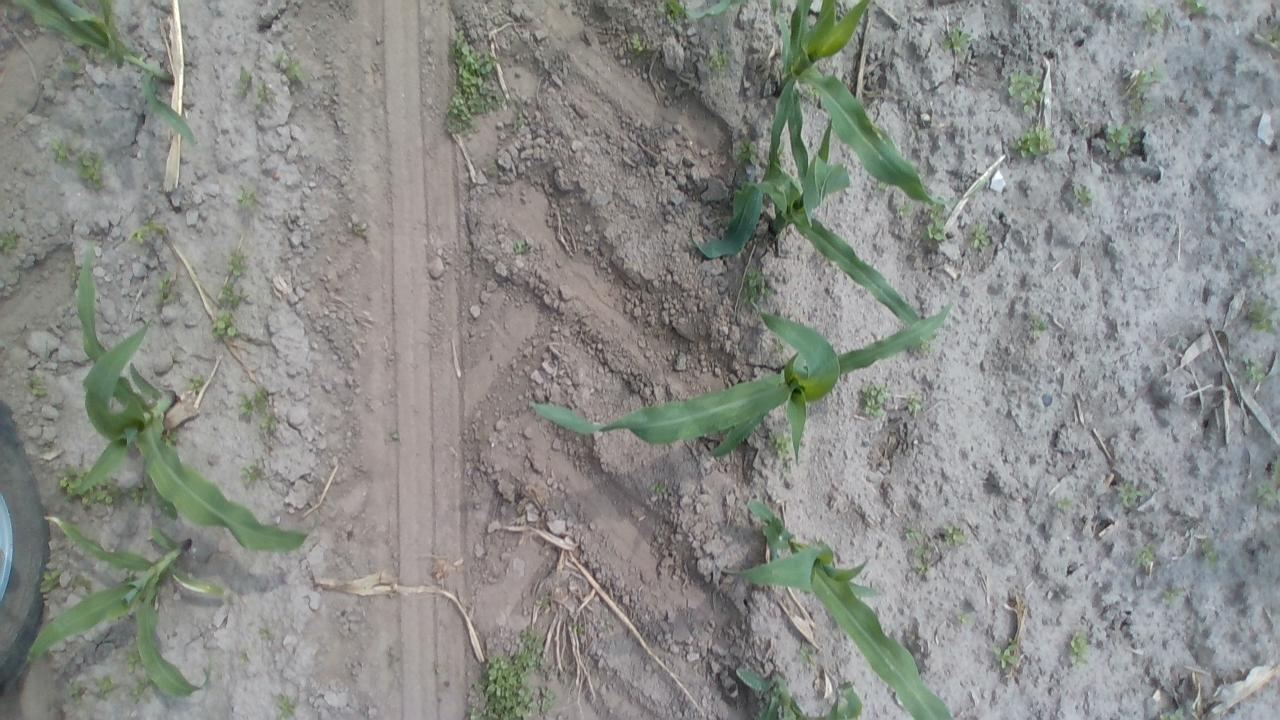Maize: (70, 232, 314, 552), (519, 295, 956, 457), (704, 0, 952, 230), (696, 108, 932, 334), (726, 498, 952, 718), (22, 516, 219, 699), (6, 0, 199, 148), (730, 663, 866, 719), (664, 0, 782, 19)
Weeds: (442, 32, 507, 141), (484, 627, 558, 720), (1006, 68, 1046, 112), (1011, 124, 1057, 159), (1252, 456, 1280, 511), (1126, 58, 1166, 93), (740, 265, 772, 307), (272, 50, 308, 87), (1106, 122, 1142, 156), (1066, 628, 1094, 670), (76, 148, 106, 187), (856, 383, 888, 418), (912, 542, 941, 578), (1247, 297, 1275, 334), (126, 220, 169, 244), (56, 465, 88, 497), (84, 482, 121, 508), (994, 639, 1024, 671), (238, 388, 272, 416), (130, 674, 161, 704), (942, 26, 973, 54), (1115, 479, 1142, 510), (736, 136, 760, 170), (126, 478, 152, 509), (1142, 6, 1170, 34), (661, 0, 691, 26), (213, 311, 239, 341), (922, 214, 946, 245), (274, 692, 301, 719), (941, 520, 968, 546), (769, 430, 794, 458), (217, 282, 246, 306), (704, 48, 734, 71), (1240, 358, 1266, 384), (232, 68, 255, 97), (52, 136, 74, 166), (1126, 96, 1156, 118), (236, 183, 262, 208), (92, 673, 118, 698), (224, 252, 248, 279), (1196, 537, 1220, 564), (1134, 544, 1158, 570), (970, 221, 991, 250), (253, 81, 277, 106), (24, 376, 48, 400), (794, 644, 816, 670), (1073, 186, 1096, 210), (1251, 255, 1275, 278), (1026, 312, 1048, 336), (120, 646, 142, 670), (1258, 26, 1278, 52), (40, 569, 60, 594), (158, 276, 176, 303), (0, 230, 22, 252), (67, 678, 87, 702), (348, 216, 369, 238), (1182, 0, 1208, 17), (242, 462, 262, 484), (512, 236, 532, 258), (186, 374, 208, 393), (630, 31, 648, 54), (916, 336, 936, 356), (1162, 584, 1184, 602), (58, 57, 84, 71), (905, 394, 924, 413), (162, 428, 180, 448), (1055, 496, 1076, 513), (1158, 707, 1186, 719), (896, 200, 911, 222), (904, 522, 921, 540), (651, 482, 670, 498), (956, 610, 975, 626), (258, 625, 274, 643), (73, 574, 93, 588), (386, 424, 402, 441), (88, 48, 110, 60), (804, 82, 820, 98), (465, 706, 483, 720), (261, 416, 277, 430), (568, 621, 584, 635), (598, 618, 612, 632), (514, 118, 526, 130), (537, 596, 549, 607), (489, 164, 499, 176), (474, 680, 484, 691), (877, 181, 889, 190), (784, 461, 792, 474), (124, 570, 134, 580), (238, 657, 246, 664)
